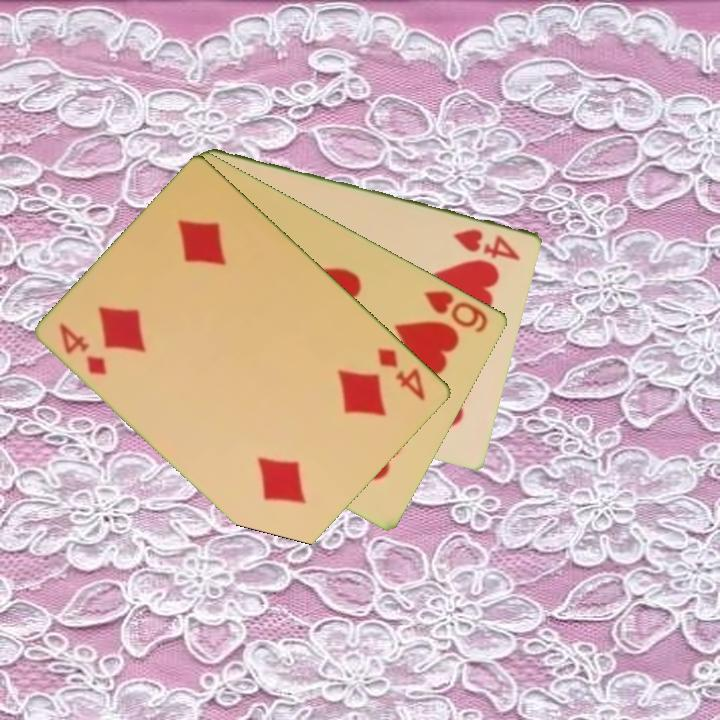4d: (374, 344, 429, 404), (55, 319, 110, 378)
4h: (451, 225, 524, 263)
6h: (421, 286, 492, 336)
